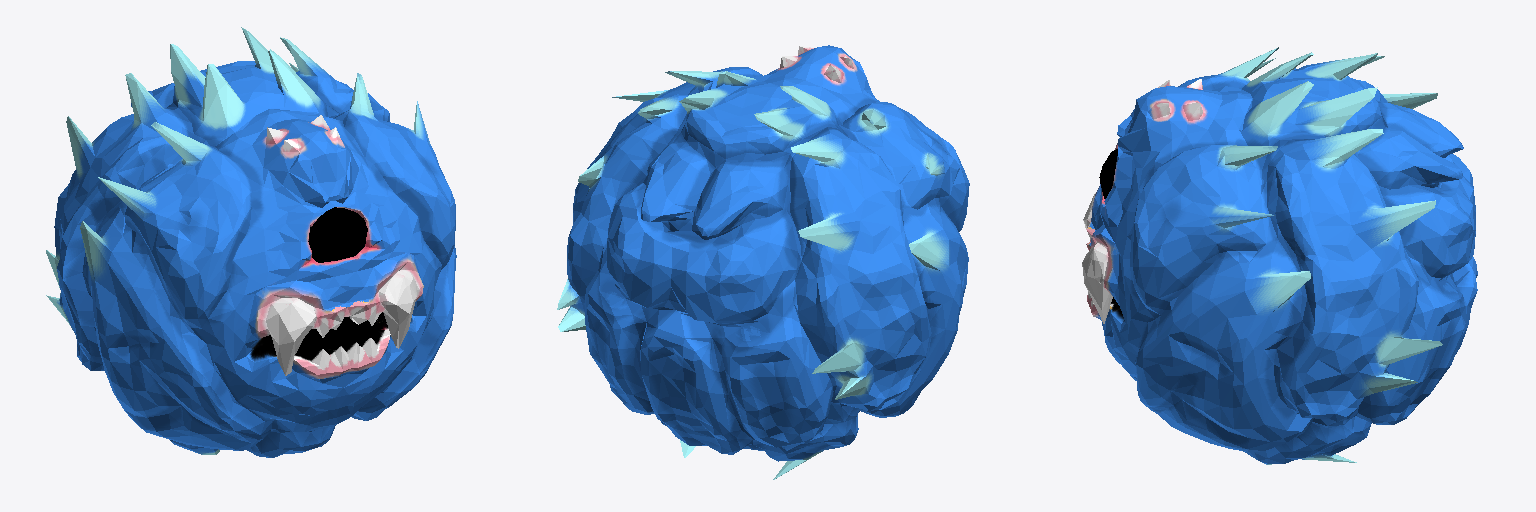
3 renders of one model, left to right at view 1: azimuth 30°, elevation 25°; view 2: azimuth 150°, elevation 25°; view 3: azimuth 270°, elevation 25°, orthographic.
Visible parts, largest first — view 1: Body_Quad_Sphere, Sphere; view 2: Body_Quad_Sphere; view 3: Body_Quad_Sphere.
Part boxes in pixels (x1,y1,x2,y2): Body_Quad_Sphere: (46, 27, 456, 457); Sphere: (308, 207, 367, 262); Body_Quad_Sphere: (557, 45, 969, 479); Body_Quad_Sphere: (1082, 47, 1477, 464).
Size of the model in its own units: 2.76 by 2.83 by 2.69.
Materials: 2 (1 with a texture image).